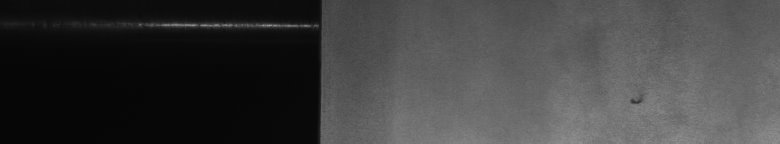fi: (628, 92, 647, 112)
